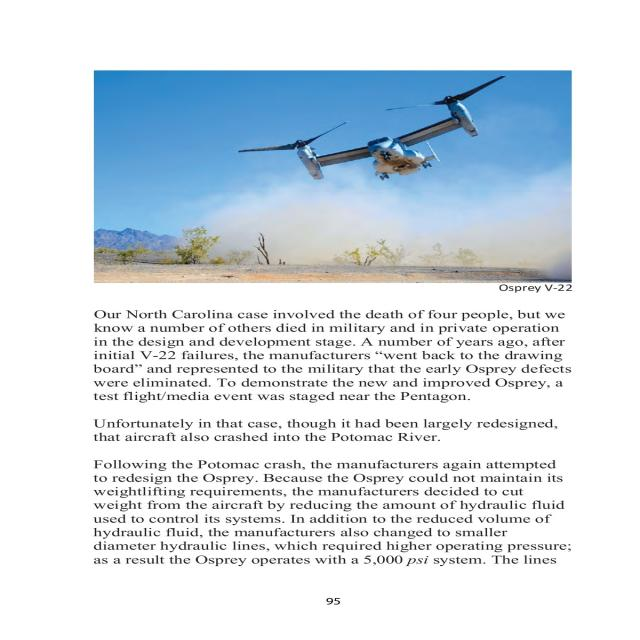MIL_Plane: (237, 75, 506, 181)
